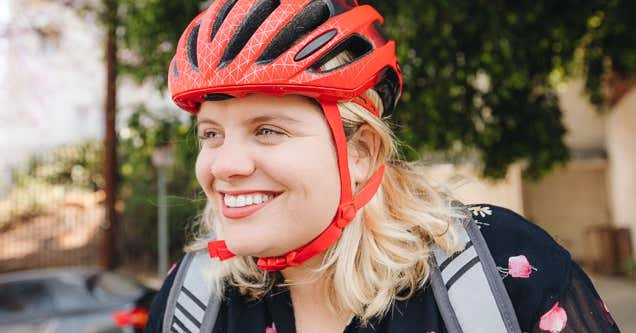helmet: (168, 1, 402, 270)
